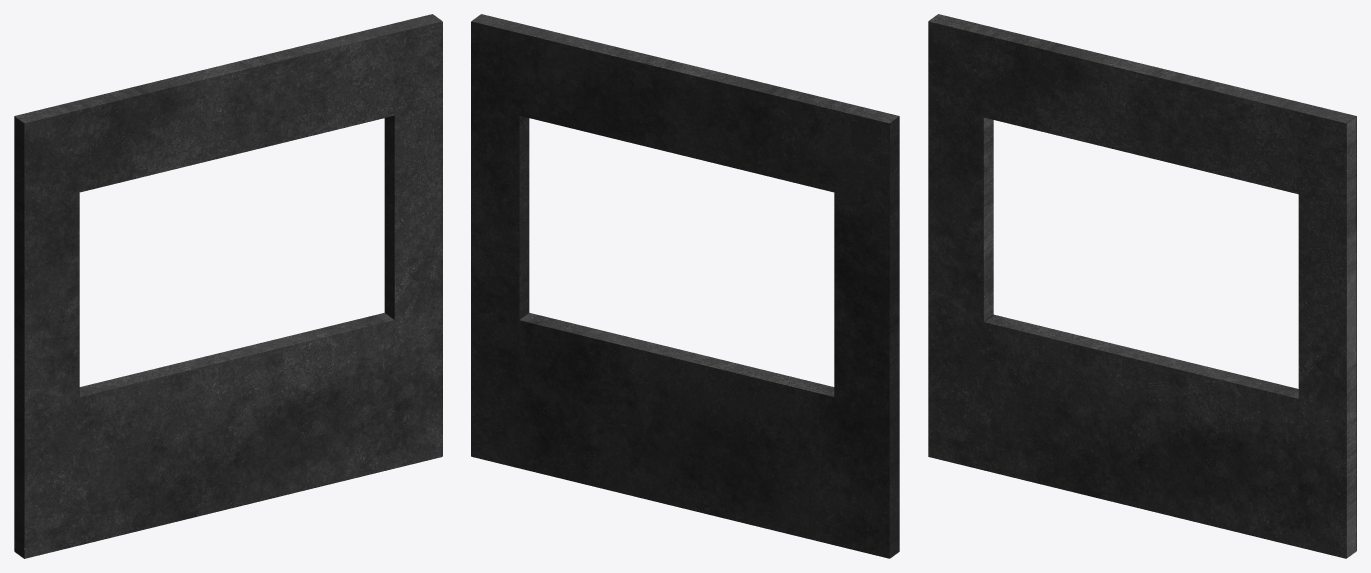
Rendered from Wall_Window.fbx.
The picture shows the model from 3 angles, left to right: view 1: azimuth 30°, elevation 25°; view 2: azimuth 150°, elevation 25°; view 3: azimuth 330°, elevation 25°; orthographic projection.
Parts seen in each view (by area): view 1: Wall_Window; view 2: Wall_Window; view 3: Wall_Window.
Part boxes in pixels (<box>): Wall_Window: <box>14,14,442,558</box>; Wall_Window: <box>471,14,899,558</box>; Wall_Window: <box>928,14,1356,558</box>.
Bounding box in the file's own units: 40.23 × 40 × 1.7.
Materials: 1 (1 with a texture image).
